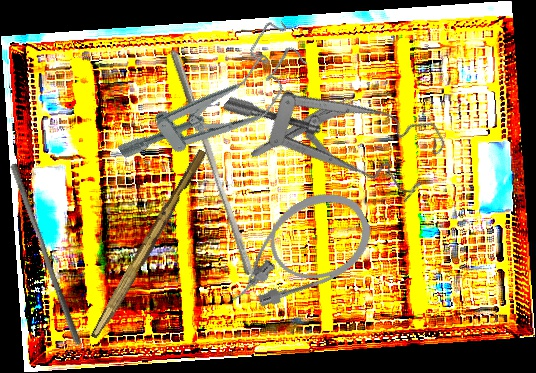Cannula: (206, 178, 384, 325)
Pusher: (160, 48, 263, 276), (3, 162, 89, 347)
Scalpel Handle: (90, 146, 208, 343)
Speculum: (221, 13, 456, 237), (108, 15, 321, 196)
Tissue Forceps: (249, 91, 358, 165)
